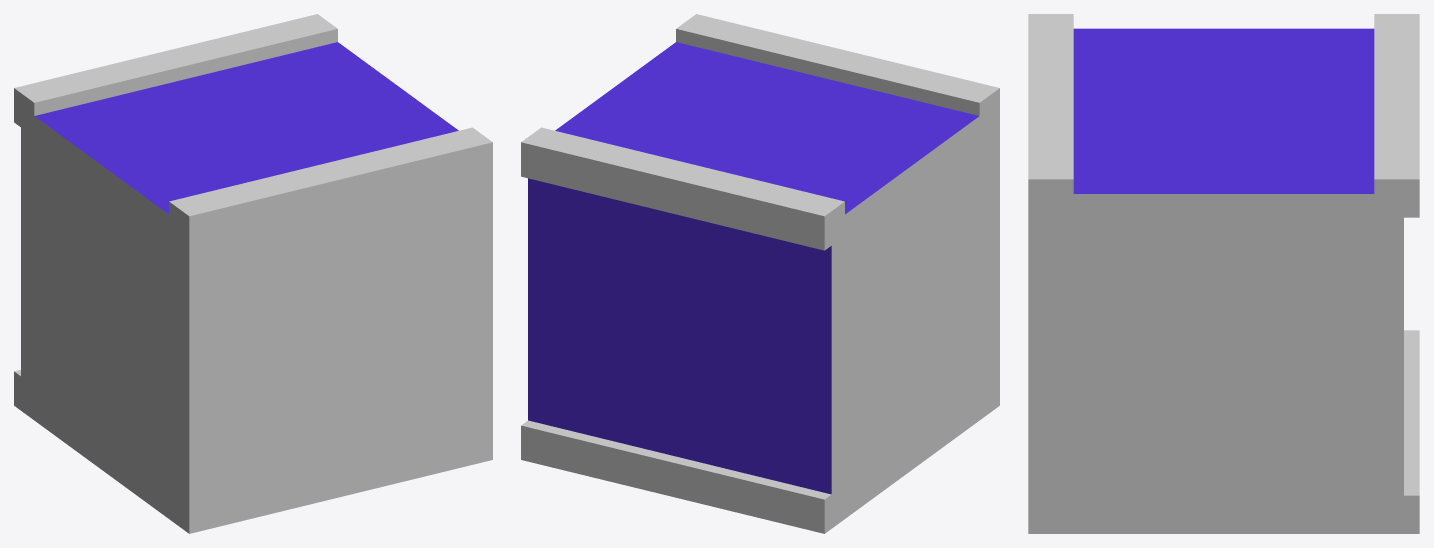
Rendered from Centr_2_full.fbx.
The picture shows the model from 3 angles, left to right: view 1: azimuth 30°, elevation 25°; view 2: azimuth 150°, elevation 25°; view 3: azimuth 270°, elevation 25°; orthographic projection. The views are drawn at different scales.
Parts seen in each view (by area): view 1: STRONG Base Model.446; view 2: STRONG Base Model.446; view 3: STRONG Base Model.446.
Part boxes in pixels (left/top/right/bottom): STRONG Base Model.446: left=14, top=14, right=492, bottom=533; STRONG Base Model.446: left=521, top=14, right=999, bottom=533; STRONG Base Model.446: left=1028, top=14, right=1419, bottom=533.
Size of the model in its own units: 21.69 by 21.69 by 21.69.
